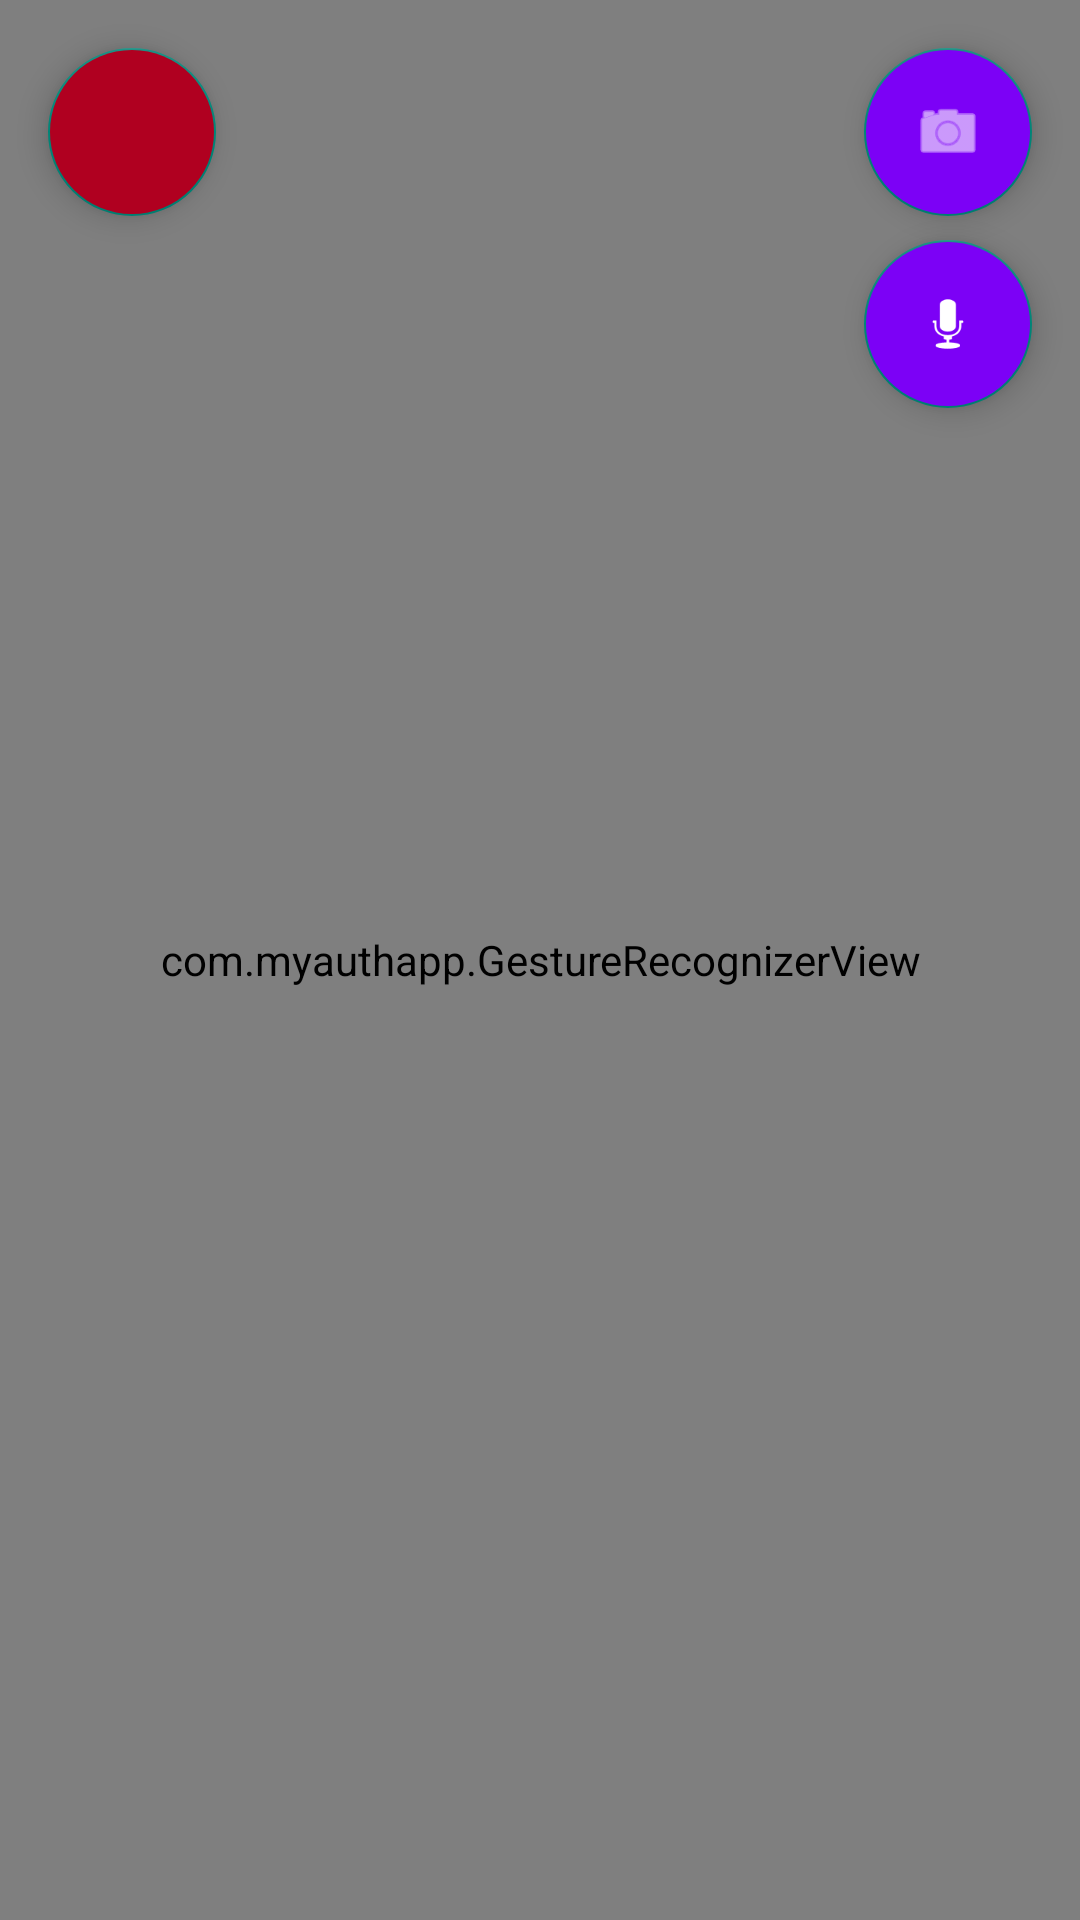

Screen size 1080x1920. Icon name, then its box in pixels as bbox=(x1, y1, x2, y2):
Flip Camera: bbox=(864, 48, 1032, 216)
Start Speech Recognition: bbox=(864, 240, 1032, 408)
